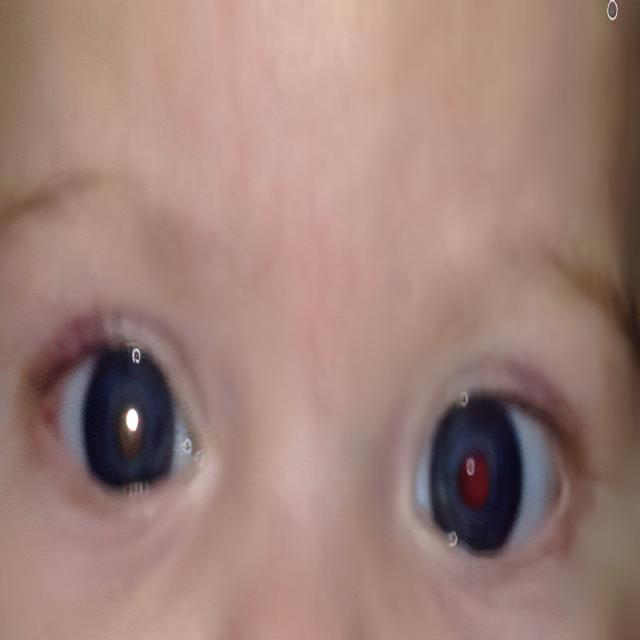reflexo-alterado: (51, 325, 186, 517)
reflexo-normal: (409, 357, 528, 572)
